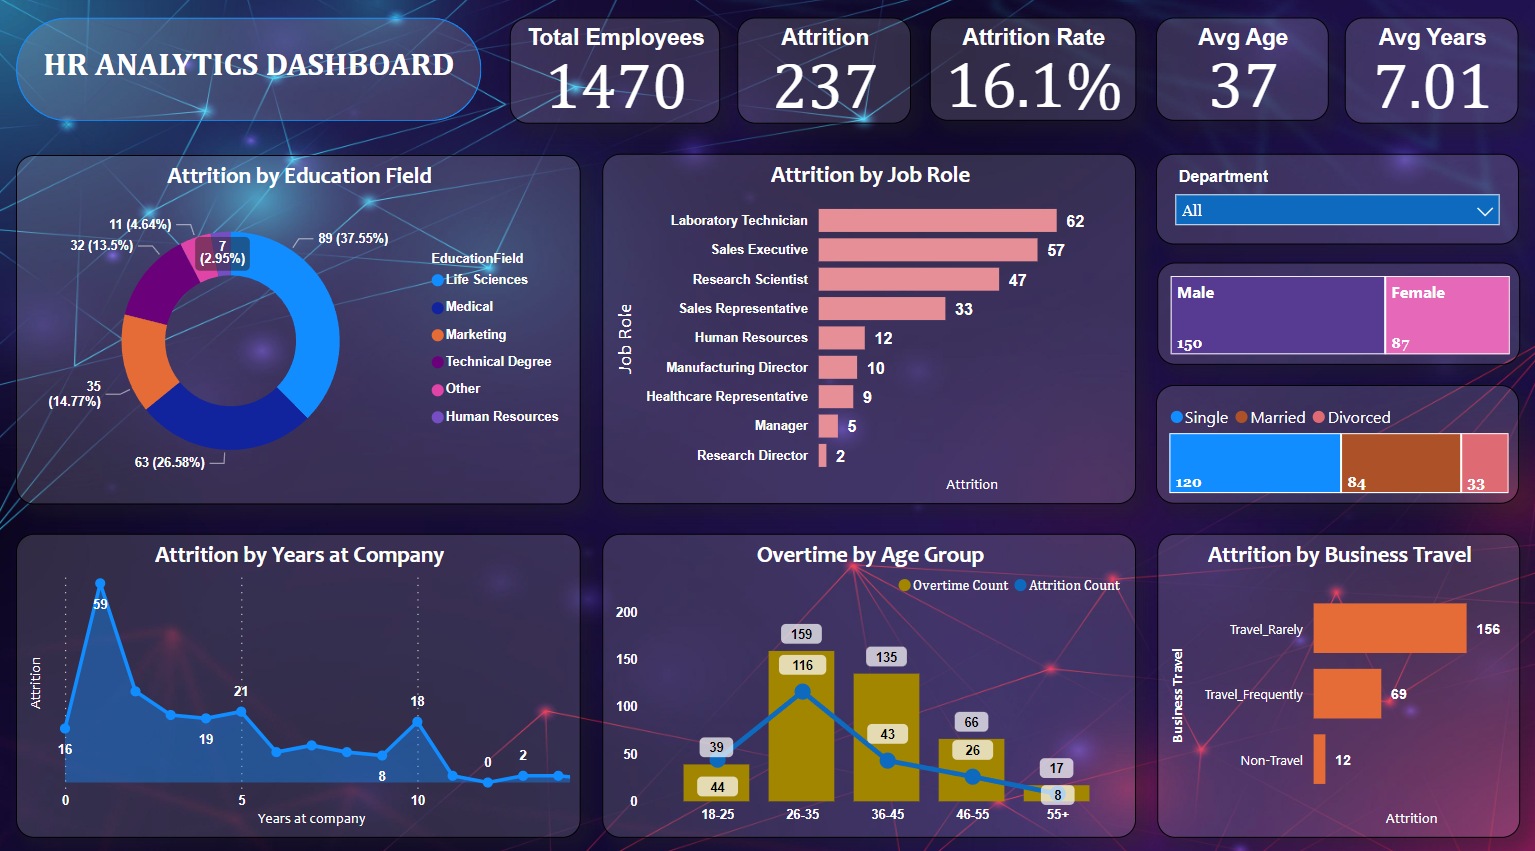

The page's visual inventory and layout, read from the dashboard file:
{"tool":"powerbi","page":{"name":"Page 1","canvas":[1280,720],"ordinal":0},"visuals":[{"type":"card","title":"Total Employees","fields":{"Values":["Sum(HR-Employee-Attrition.EmployeeCount)"]},"box":[425.3,18.6,174.3,88.3],"z":0},{"type":"card","title":"Attrition ","fields":{"Values":["Sum(HR-Employee-Attrition.Attrition Count)"]},"box":[614.7,18.6,144.1,88.3],"z":1},{"type":"card","title":"Attrition Rate","fields":{"Values":["HR-Employee-Attrition.Attrition Percentage"]},"box":[773.9,18.6,170.8,86],"z":2},{"type":"card","title":"Avg Age","fields":{"Values":["Avg(HR-Employee-Attrition.Age)"]},"box":[960.9,18.6,142.9,86],"z":3},{"type":"card","title":"Avg Years","fields":{"Values":["Avg(HR-Employee-Attrition.YearsAtCompany)"]},"box":[1117.8,18.6,144.1,88.3],"z":4},{"type":"donutChart","title":"Attrition by Education Field","fields":{"Category":["HR-Employee-Attrition.EducationField"],"Y":["Sum(HR-Employee-Attrition.Attrition Count)"]},"box":[16.3,132.5,468.3,289.3],"z":5},{"type":"barChart","title":"Attrition by Business Travel","fields":{"Category":["HR-Employee-Attrition.BusinessTravel"],"Y":["Sum(HR-Employee-Attrition.Attrition Count)"]},"box":[962.1,446.2,300.9,252.1],"z":6},{"type":"barChart","title":"Attrition by Job Role","fields":{"Y":["Sum(HR-Employee-Attrition.Attrition Count)"],"Category":["HR-Employee-Attrition.JobRole"]},"box":[502,131.3,442.7,290.5],"z":7},{"type":"areaChart","title":"Attrition by Years at Company","fields":{"Y":["Sum(HR-Employee-Attrition.Attrition Count)"],"Category":["HR-Employee-Attrition.YearsAtCompany"]},"box":[16.3,446.2,468.3,252.1],"z":8},{"type":"shape","box":[16.3,18.6,385.8,86],"z":9},{"type":"textbox","box":[30.2,36,359,52.3],"z":10},{"type":"treemap","fields":{"Group":["HR-Employee-Attrition.Gender"],"Values":["Sum(HR-Employee-Attrition.Attrition Count)"]},"box":[962.1,221.9,300.9,84.8],"z":11},{"type":"slicer","fields":{"Values":["HR-Employee-Attrition.Department"]},"box":[960.9,131.3,300.9,75.5],"z":12},{"type":"lineStackedColumnComboChart","title":" Overtime by Age Group","fields":{"Category":["HR-Employee-Attrition.Age Group"],"Y":["Sum(HR-Employee-Attrition.Overtime Count)"],"Y2":["Sum(HR-Employee-Attrition.Attrition Count)"]},"box":[502,446.2,442.7,252.1],"z":13},{"type":"treemap","fields":{"Values":["Sum(HR-Employee-Attrition.Attrition Count)"],"Group":["HR-Employee-Attrition.MaritalStatus"]},"box":[960.9,323,300.9,98.8],"z":14}]}

Visuals, with their boxes in screenshot pixels (x1, y1, x2, y2), scaled from the page's 1280x720 canvas onto the 1535x851 screenshot:
"Total Employees" card: [510, 22, 719, 126]
"Attrition " card: [737, 22, 910, 126]
"Attrition Rate" card: [928, 22, 1133, 124]
"Avg Age" card: [1152, 22, 1324, 124]
"Avg Years" card: [1340, 22, 1513, 126]
"Attrition by Education Field" donutChart: [20, 157, 581, 499]
"Attrition by Business Travel" barChart: [1154, 527, 1515, 825]
"Attrition by Job Role" barChart: [602, 155, 1133, 499]
"Attrition by Years at Company" areaChart: [20, 527, 581, 825]
shape: [20, 22, 482, 124]
textbox: [36, 43, 467, 104]
treemap - HR-Employee-Attrition.Gender x Sum(HR-Employee-Attrition.Attrition Count): [1154, 262, 1515, 363]
slicer - HR-Employee-Attrition.Department: [1152, 155, 1513, 244]
" Overtime by Age Group" lineStackedColumnComboChart: [602, 527, 1133, 825]
treemap - Sum(HR-Employee-Attrition.Attrition Count) x HR-Employee-Attrition.MaritalStatus: [1152, 382, 1513, 499]
